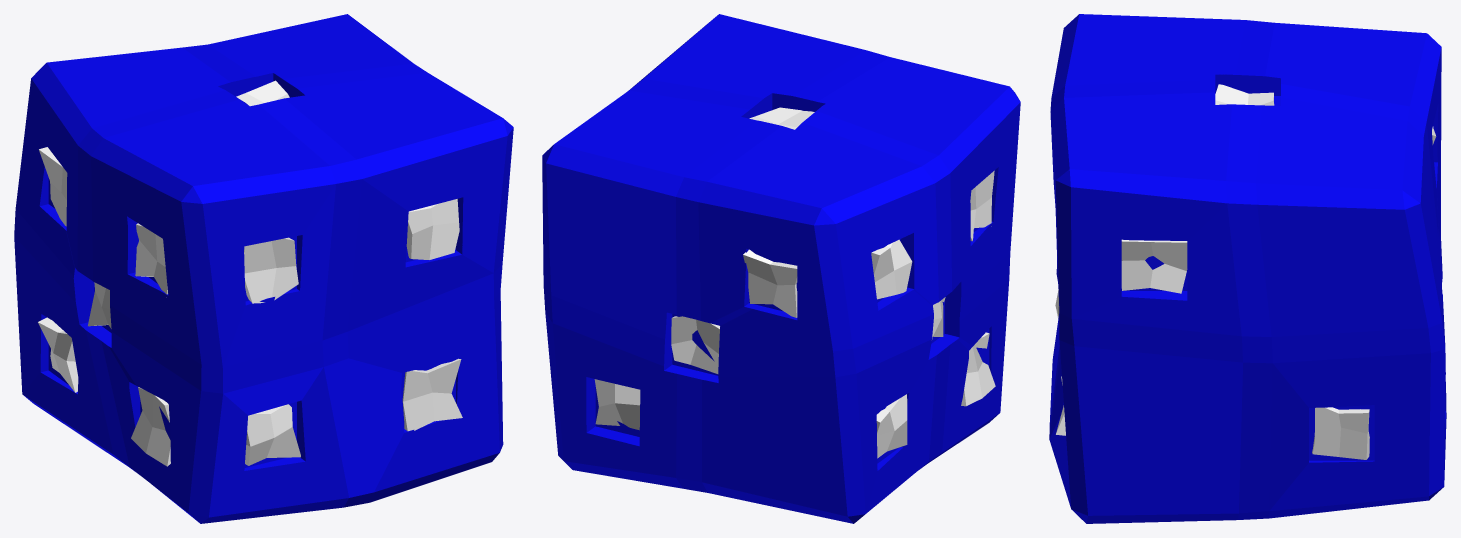
File: 7_ugly_dice_blue.gltf
3 renders of one model, left to right at view 1: azimuth 30°, elevation 25°; view 2: azimuth 150°, elevation 25°; view 3: azimuth 270°, elevation 25°, orthographic. The views are drawn at different scales.
Parts seen in each view (by area): view 1: D6_Dice_Blue; view 2: D6_Dice_Blue; view 3: D6_Dice_Blue.
Boxes of the visible parts, bbox=[...] form: D6_Dice_Blue: bbox=[14, 14, 513, 523]; D6_Dice_Blue: bbox=[542, 14, 1020, 523]; D6_Dice_Blue: bbox=[1049, 14, 1446, 523].
Bounding box in the file's own units: 2.19 × 2.18 × 2.12.
